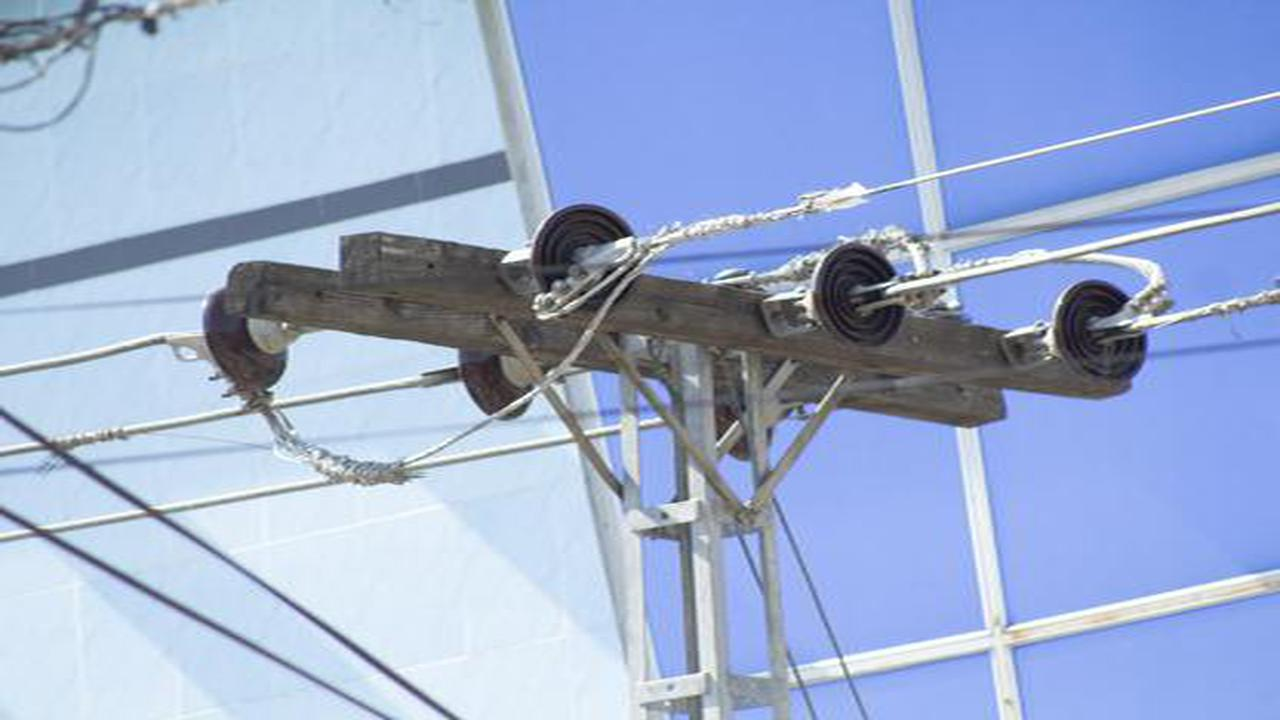insulator_disc: (526, 199, 646, 315), (806, 241, 915, 360), (1051, 273, 1155, 388), (451, 341, 546, 423), (209, 301, 298, 387)
